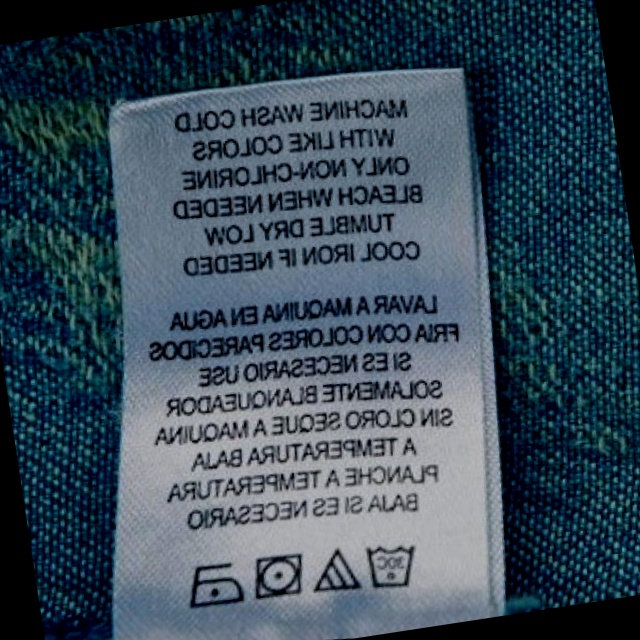30C: (356, 529, 423, 597)
iron_low: (181, 550, 253, 617)
non_chlorine_bleach: (309, 542, 363, 599)
tumble_dry_low: (239, 543, 312, 610)
